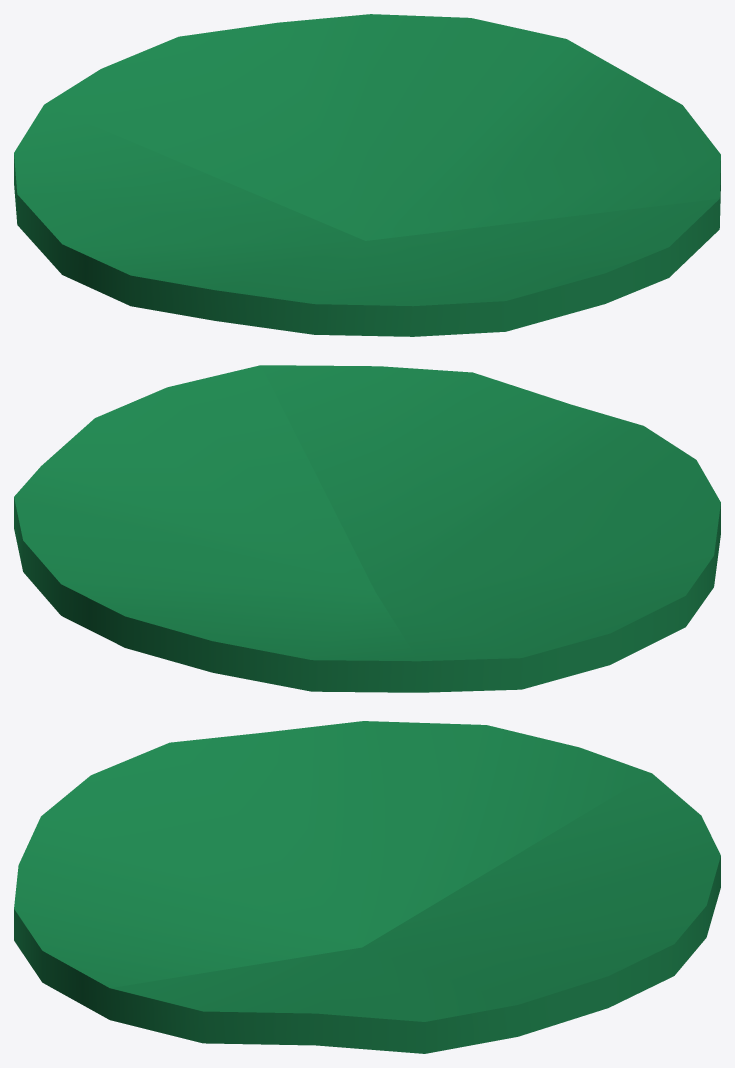
Rendered from plant_mushroom_leaf_A_thick.fbx.
3 views of the same model, one above another, from view 1: azimuth 30°, elevation 25°; view 2: azimuth 150°, elevation 25°; view 3: azimuth 270°, elevation 25° (orthographic). The views are drawn at different scales.
Visible parts, largest first — view 1: plant_mushroom_leaf_A_thick; view 2: plant_mushroom_leaf_A_thick; view 3: plant_mushroom_leaf_A_thick.
Boxes of the visible parts, <box> form: plant_mushroom_leaf_A_thick: <box>14,14,720,336</box>; plant_mushroom_leaf_A_thick: <box>14,365,720,692</box>; plant_mushroom_leaf_A_thick: <box>14,721,720,1053</box>.
Size of the model in its own units: 30.32 by 8.25 by 29.88.
